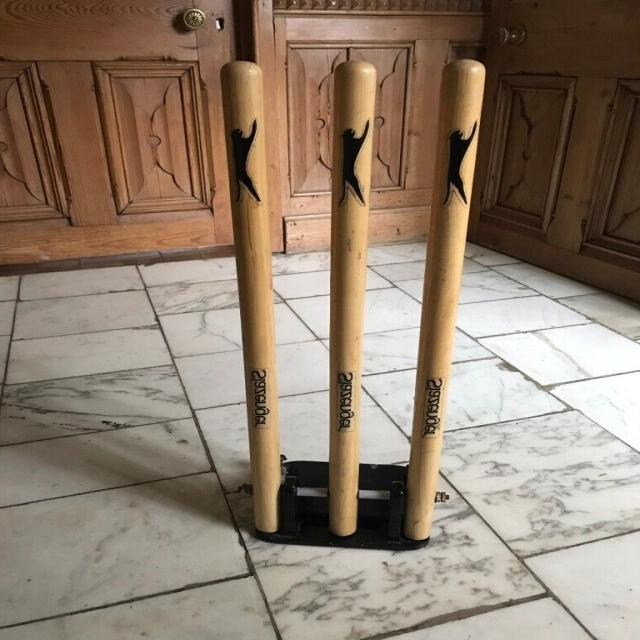stump: (230, 51, 482, 543)
